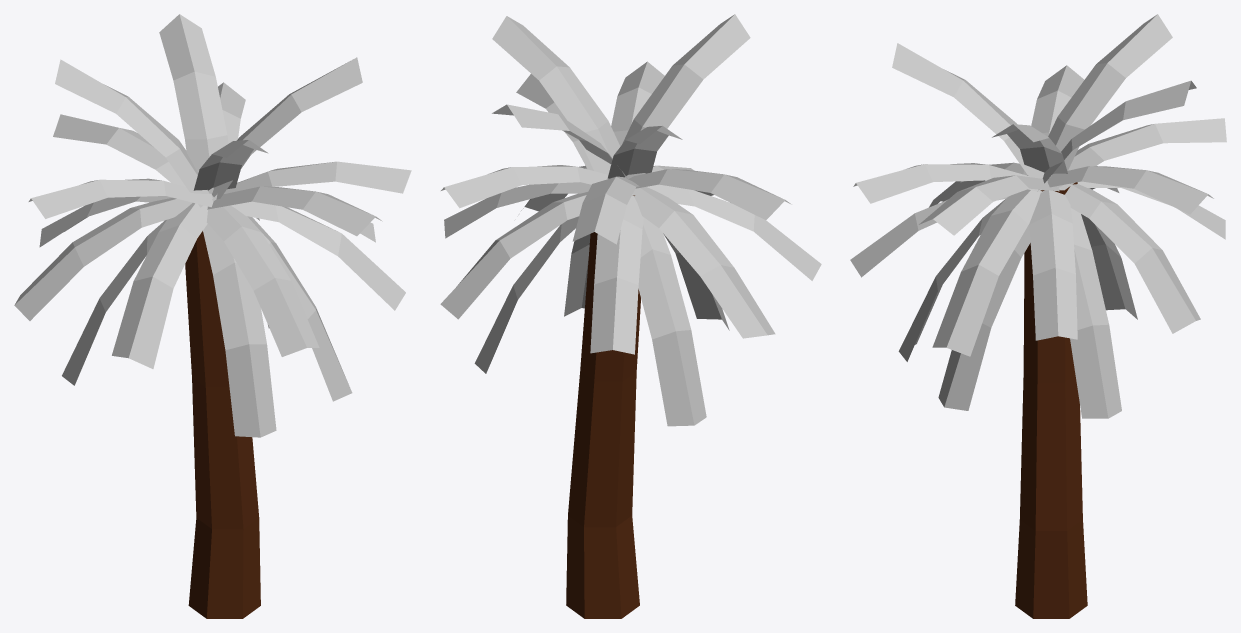
Rendered from T_Palm1Snow.fbx.
3 renders of one model, left to right at view 1: azimuth 30°, elevation 25°; view 2: azimuth 150°, elevation 25°; view 3: azimuth 270°, elevation 25°, orthographic. The views are drawn at different scales.
Visible parts, largest first — view 1: Cylinder; view 2: Cylinder; view 3: Cylinder.
Boxes of the visible parts, x1=… form: Cylinder: x1=14, y1=14, x2=411, y2=618; Cylinder: x1=440, y1=14, x2=821, y2=618; Cylinder: x1=850, y1=14, x2=1226, y2=618.
Bounding box in the file's own units: 4.6 × 6.95 × 4.42.
